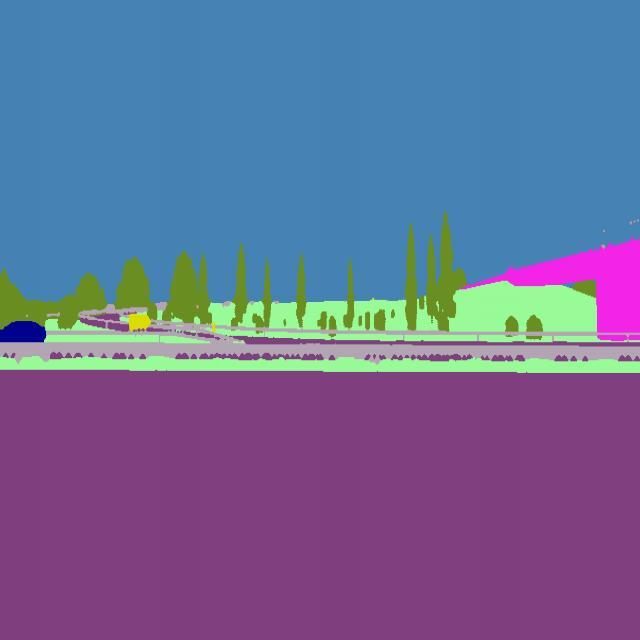safe: (2, 312, 51, 350)
